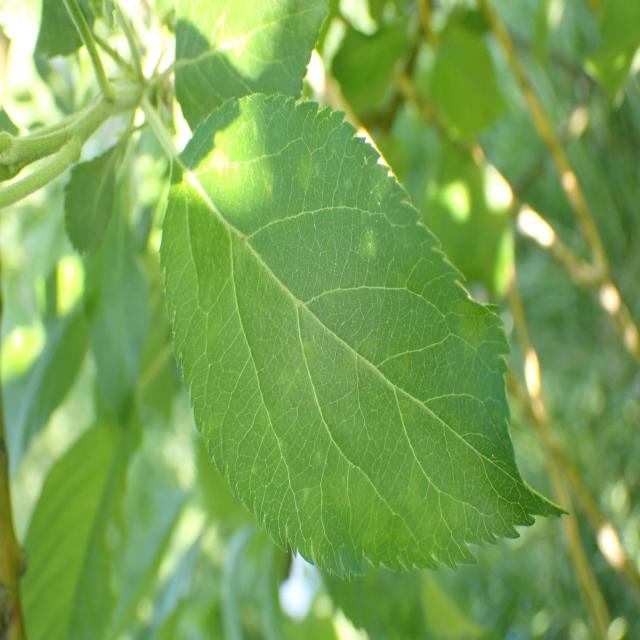scab: (184, 113, 514, 557)
